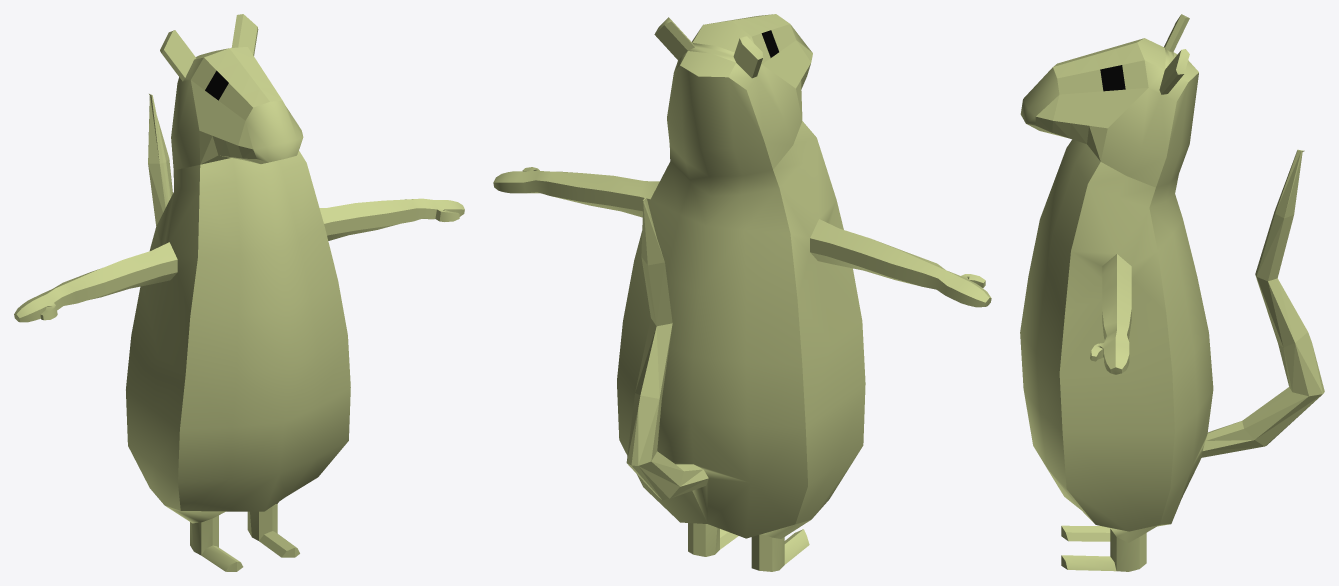
File: rata_nuca_rota.fbx
The picture shows the model from 3 angles, left to right: view 1: azimuth 30°, elevation 25°; view 2: azimuth 150°, elevation 25°; view 3: azimuth 270°, elevation 25°; orthographic projection. The views are drawn at different scales.
Visible parts, largest first — view 1: rata con nuca rota; view 2: rata con nuca rota; view 3: rata con nuca rota.
Part boxes in pixels (x1,y1,x2,y2): rata con nuca rota: (14,14,464,571); rata con nuca rota: (493,14,991,571); rata con nuca rota: (1020,14,1324,571).
Size of the model in its own units: 1.09 by 1.17 by 0.6231.
